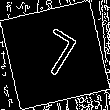L_SW: (29, 26, 81, 84)
